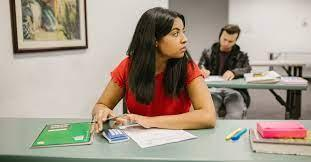cheating: (86, 7, 218, 143)
